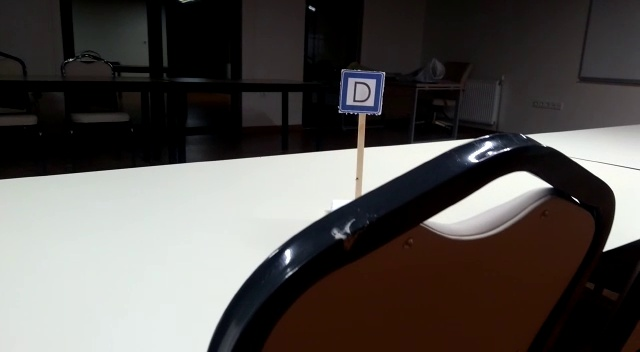durak: (337, 68, 384, 112)
